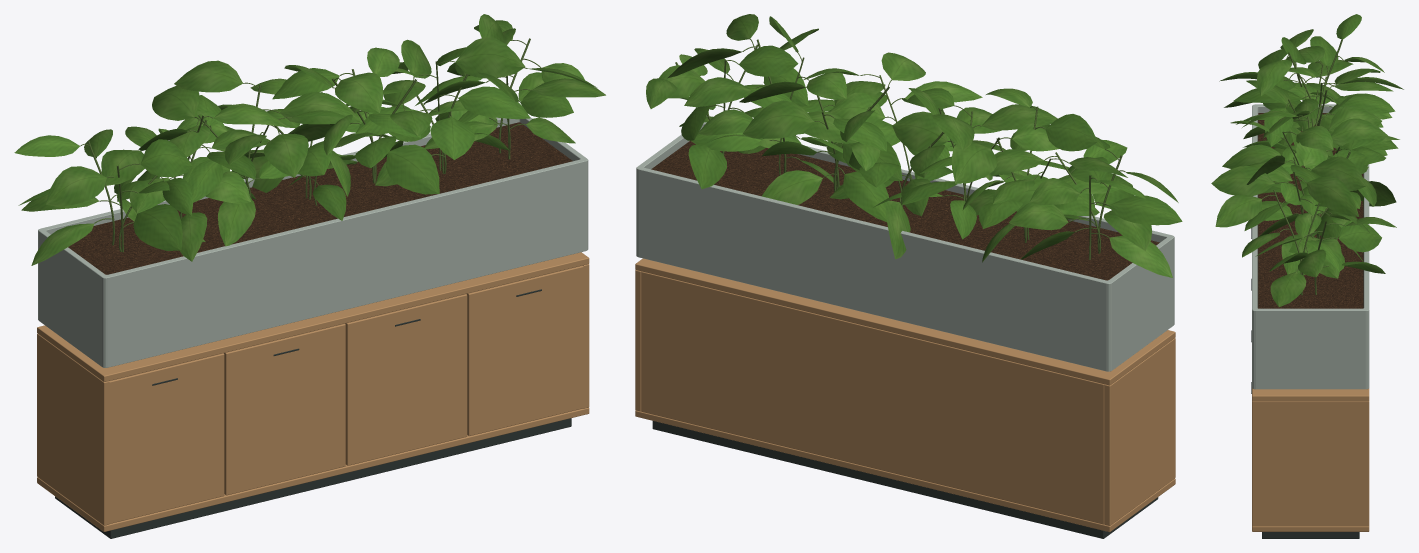
File: botanicalDivider-8.glb
3 views of the same model, side by side, from view 1: azimuth 30°, elevation 25°; view 2: azimuth 150°, elevation 25°; view 3: azimuth 270°, elevation 25° (orthographic). The views are drawn at different scales.
Visible parts, largest first — view 1: StoragePlanter_Door (×4), Planter_pothos_leaves, Planter_oiled_oak, Planter_loose_soil, StoragePlanter_Side (×2), StoragePlanter_Top, StoragePlanter_Plinth, StoragePlanter_Bottom, Planter_pothos_stems; view 2: StoragePlanter_Back, Planter_pothos_leaves, Planter_oiled_oak, Planter_loose_soil, StoragePlanter_Side (×2), StoragePlanter_Top, StoragePlanter_Plinth, StoragePlanter_Bottom, Planter_pothos_stems; view 3: Planter_pothos_leaves, StoragePlanter_Side, Planter_oiled_oak, Planter_loose_soil, Planter_pothos_stems, StoragePlanter_Top, StoragePlanter_Bottom, StoragePlanter_Plinth.
Part boxes in pixels (left/top/right/bottom): StoragePlanter_Door (×4): left=109, top=265, right=584, bottom=523; Planter_pothos_leaves: left=14, top=14, right=605, bottom=265; Planter_oiled_oak: left=38, top=117, right=588, bottom=367; Planter_loose_soil: left=68, top=122, right=572, bottom=274; StoragePlanter_Side (×2): left=37, top=264, right=589, bottom=525; StoragePlanter_Top: left=37, top=252, right=589, bottom=381; StoragePlanter_Plinth: left=55, top=418, right=571, bottom=538; StoragePlanter_Bottom: left=37, top=407, right=589, bottom=531; Planter_pothos_stems: left=80, top=38, right=541, bottom=252; StoragePlanter_Back: left=641, top=271, right=1104, bottom=524; Planter_pothos_leaves: left=646, top=14, right=1182, bottom=277; Planter_oiled_oak: left=636, top=122, right=1174, bottom=371; Planter_loose_soil: left=651, top=140, right=1159, bottom=280; StoragePlanter_Side (×2): left=635, top=270, right=1175, bottom=525; StoragePlanter_Top: left=635, top=258, right=1175, bottom=385; StoragePlanter_Plinth: left=652, top=421, right=1158, bottom=538; StoragePlanter_Bottom: left=635, top=410, right=1175, bottom=532; Planter_pothos_stems: left=675, top=39, right=1125, bottom=259; Planter_pothos_leaves: left=1211, top=14, right=1403, bottom=307; StoragePlanter_Side: left=1252, top=401, right=1369, bottom=526; Planter_oiled_oak: left=1252, top=104, right=1369, bottom=389; Planter_loose_soil: left=1258, top=113, right=1363, bottom=308; Planter_pothos_stems: left=1262, top=39, right=1350, bottom=295; StoragePlanter_Top: left=1252, top=388, right=1369, bottom=401; StoragePlanter_Bottom: left=1252, top=526, right=1369, bottom=531; StoragePlanter_Plinth: left=1262, top=532, right=1359, bottom=538.
Bounding box in the file's own units: 2.26 × 1.58 × 0.7924.
Materials: 9 (2 with a texture image).
